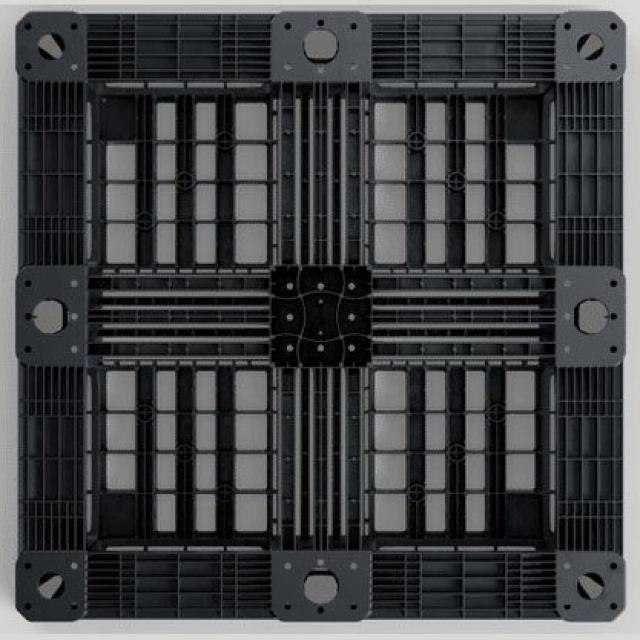non-igps: (8, 4, 635, 629)
